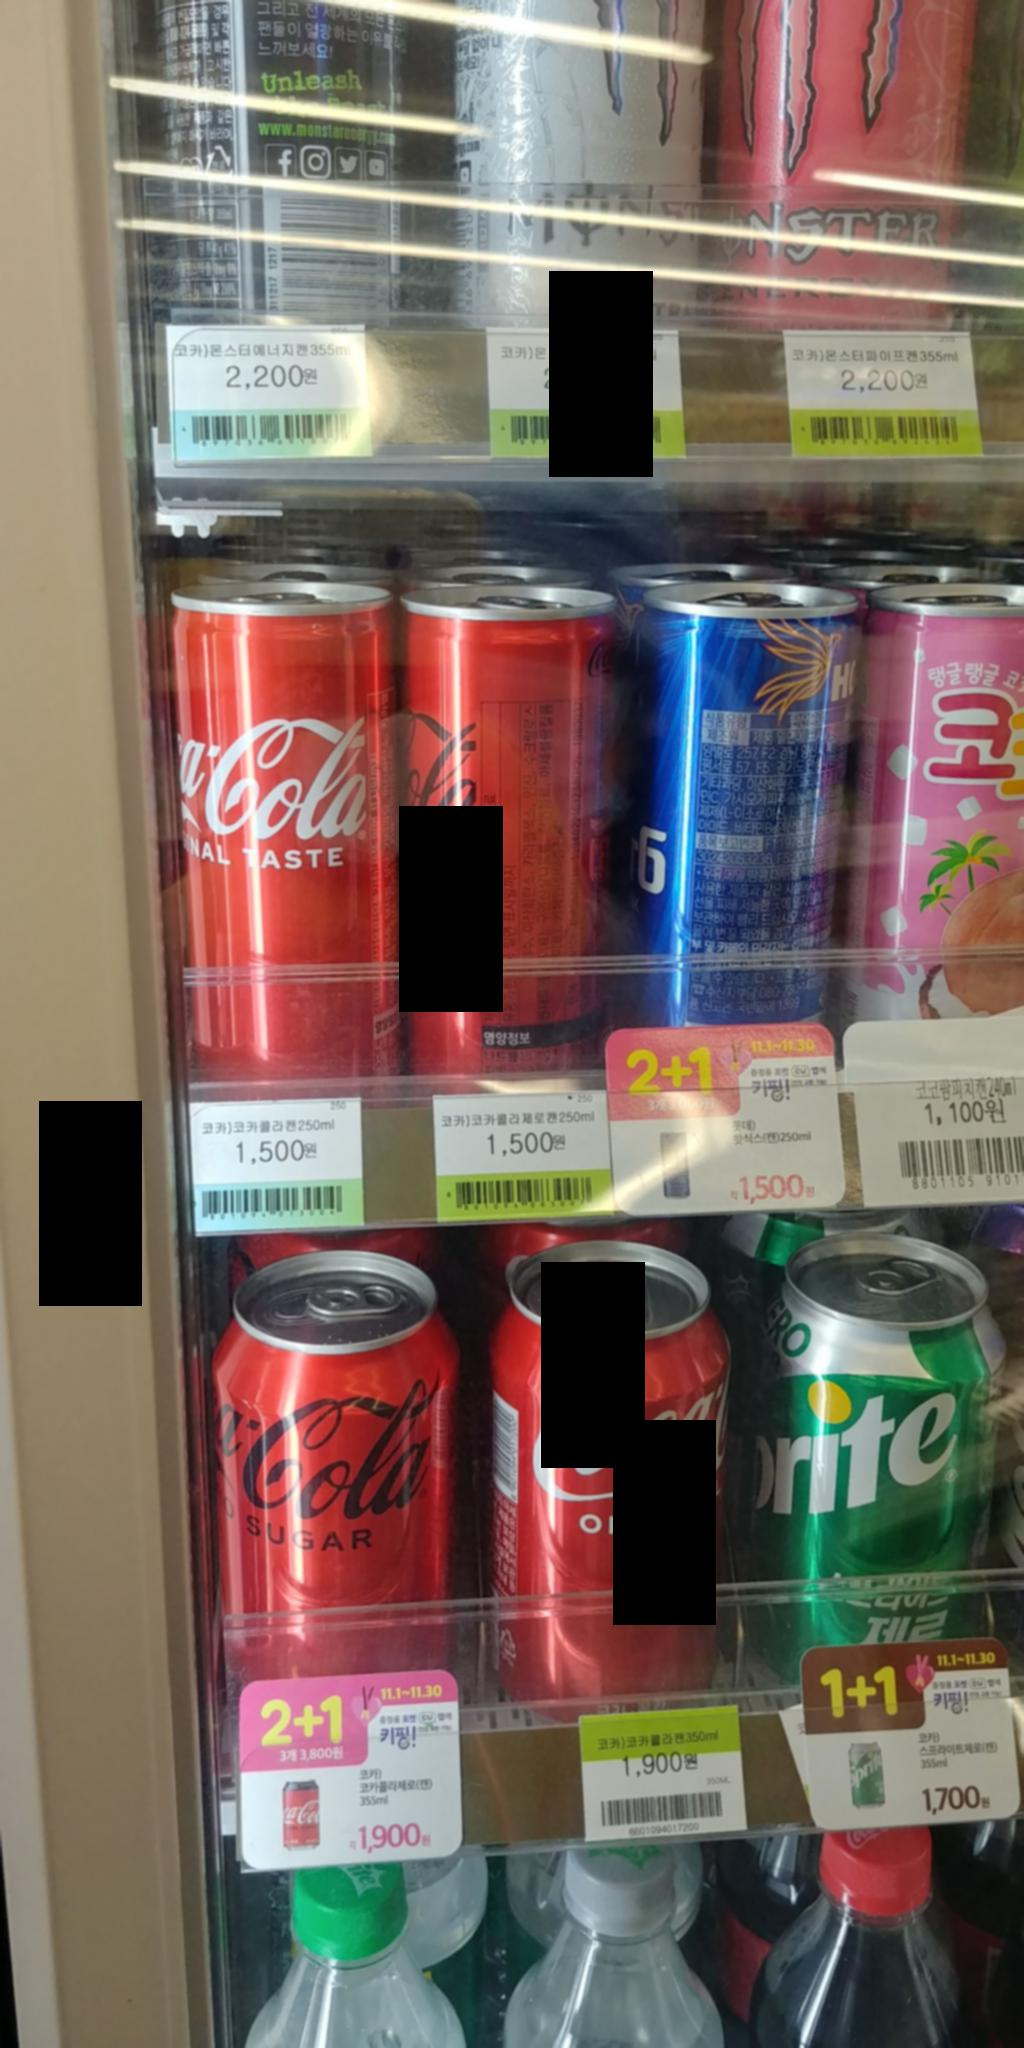cocacola: (478, 1220, 747, 1718)
cocacola_zero: (384, 576, 637, 1102)
hotsix_org: (616, 573, 863, 1011)
